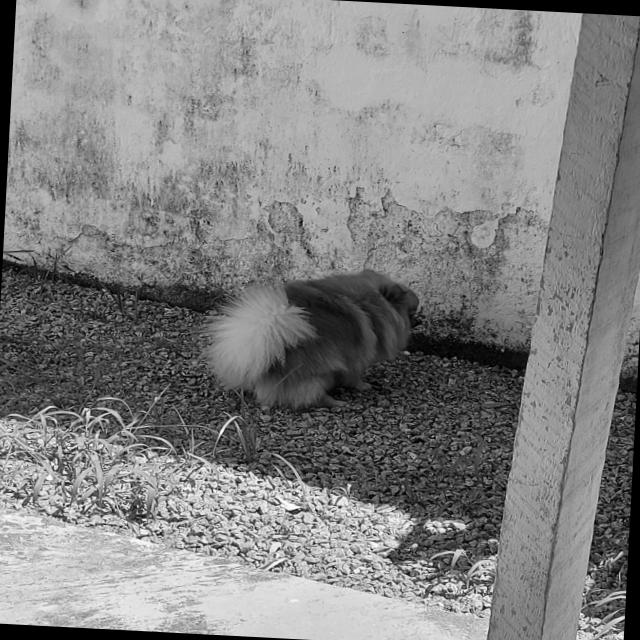squatting: (196, 257, 432, 417)
